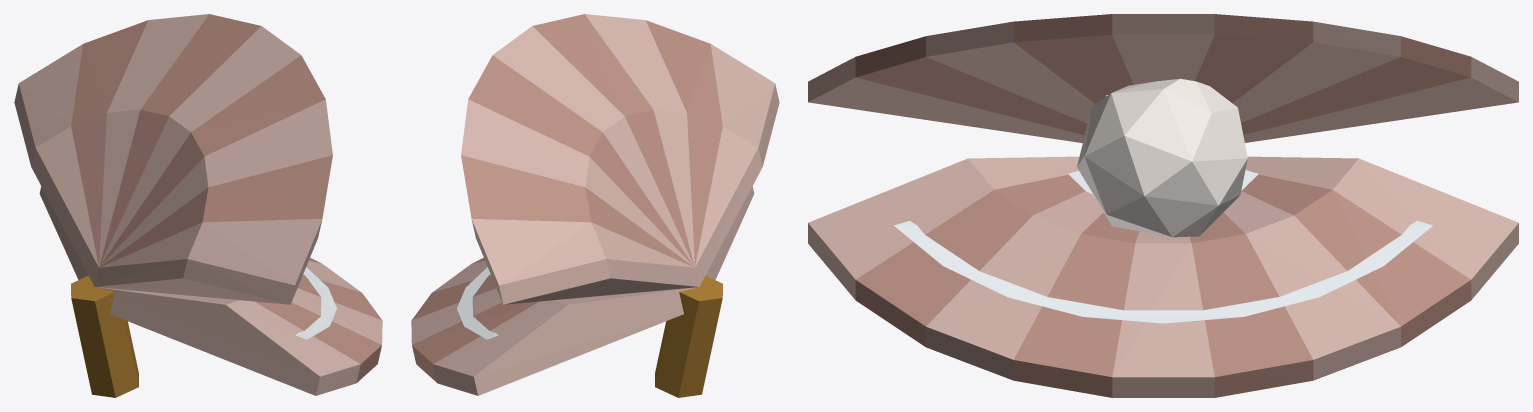
File: gd_submarine_shell.glb
The picture shows the model from 3 angles, left to right: view 1: azimuth 30°, elevation 25°; view 2: azimuth 150°, elevation 25°; view 3: azimuth 270°, elevation 25°; orthographic projection. The views are drawn at different scales.
Visible parts, largest first — view 1: base; view 2: base; view 3: base.
Part boxes in pixels (box(x1,y1,x2,y2)): base: box(14, 14, 382, 397); base: box(411, 14, 779, 397); base: box(808, 14, 1518, 397).
Bounding box in the file's own units: 0.1358 × 0.1474 × 0.2396.
